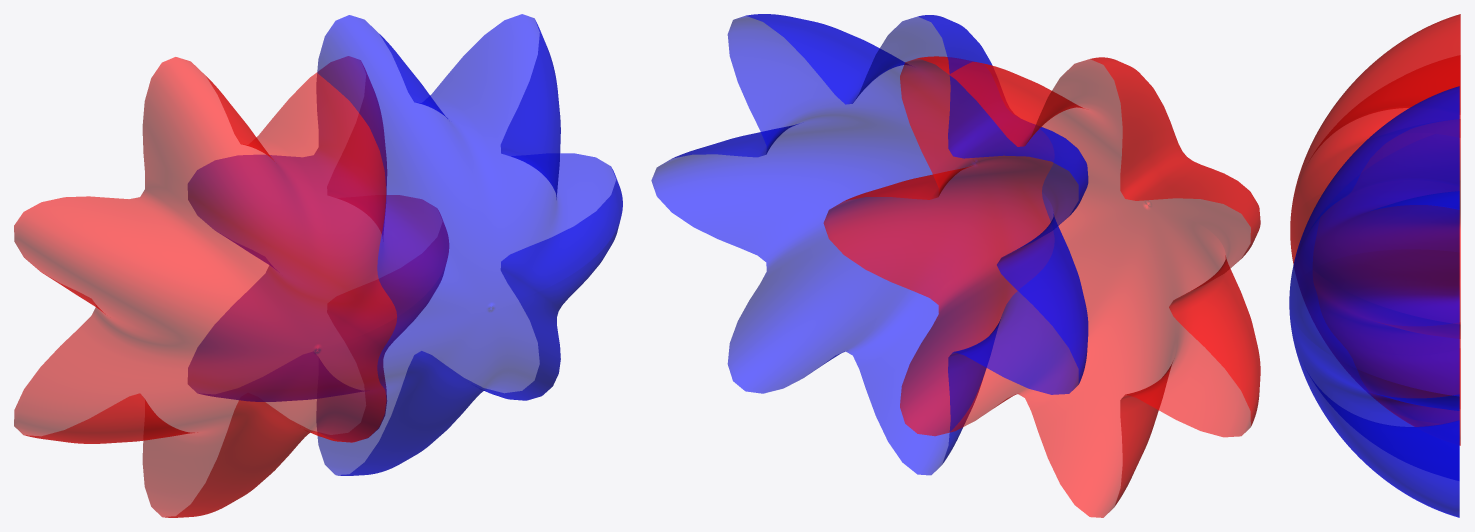
Rendered from corrugated-sphere.gltf.
3 renders of one model, left to right at view 1: azimuth 30°, elevation 25°; view 2: azimuth 150°, elevation 25°; view 3: azimuth 270°, elevation 25°, orthographic. The views are drawn at different scales.
Parts seen in each view (by area): view 1: LeftEyeModel, RightEyeModel; view 2: RightEyeModel, LeftEyeModel; view 3: RightEyeModel, LeftEyeModel.
Boxes of the visible parts, x1,y1,x2,y2 form: LeftEyeModel: (14, 56, 448, 517); RightEyeModel: (188, 14, 622, 475); RightEyeModel: (651, 14, 1088, 475); LeftEyeModel: (823, 56, 1260, 517); RightEyeModel: (1289, 86, 1459, 517); LeftEyeModel: (1290, 14, 1460, 445).
Size of the model in its own units: 3.48 by 2.54 by 1.
